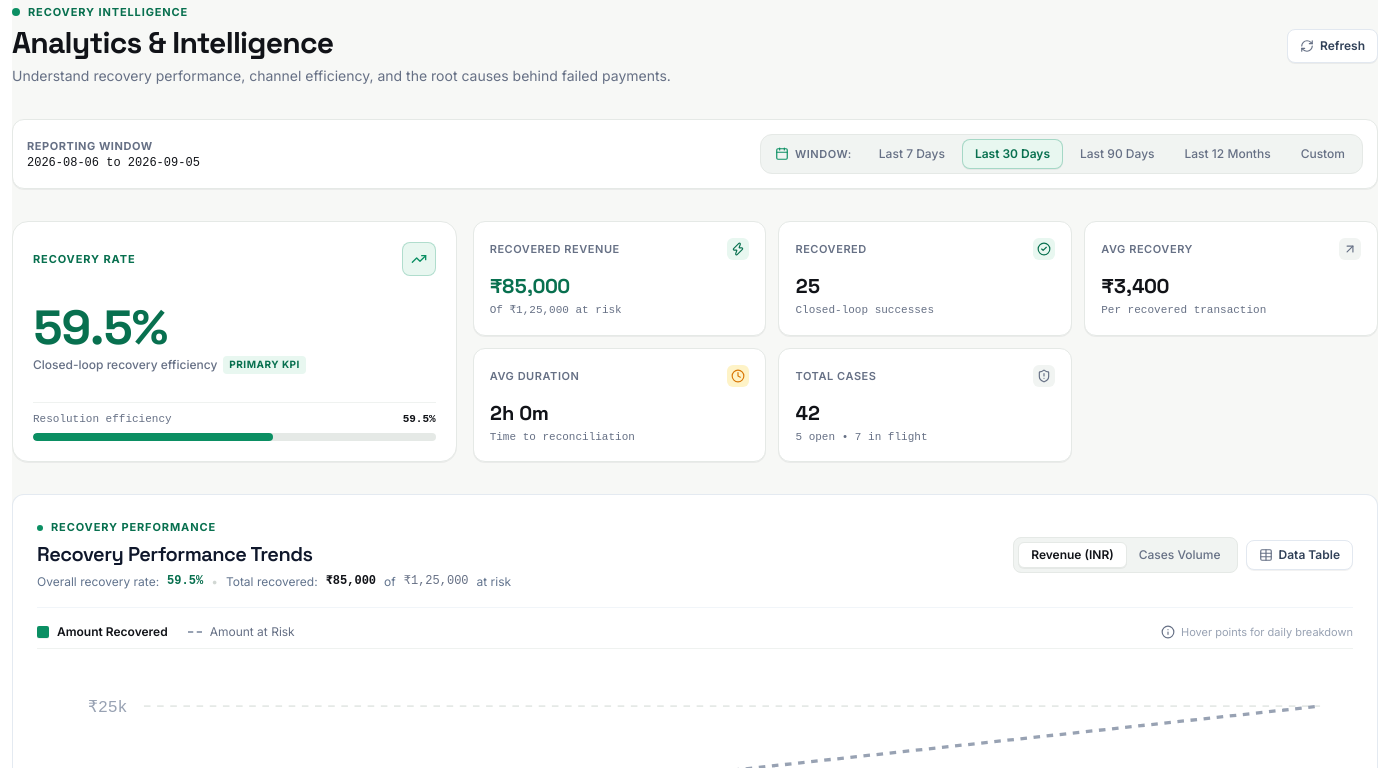
Scenario: AnalyticsPage › renders recovery performance trends and supports switching to accessible data table
Expected: the heading "Recovery Performance Trends" is shown, 37,541 -> 312,567
# Toggle data table view
Click the button "Data Table" at (1299, 555), box 1246,540 -> 1353,570
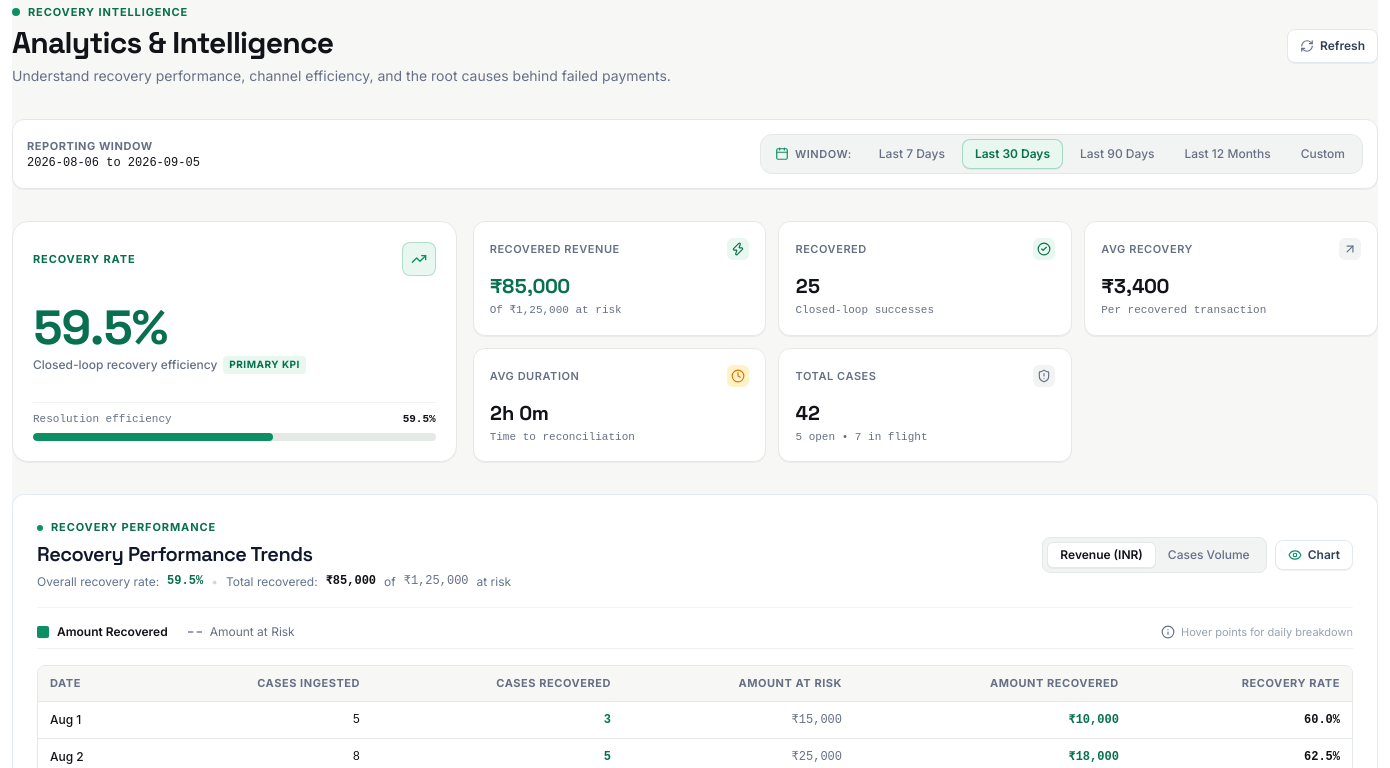
Expected: the text "Amount at Risk" is shown, 210,624 -> 295,640
Result: the column heading "Cases Ingested" is shown at 142,666 -> 372,702
